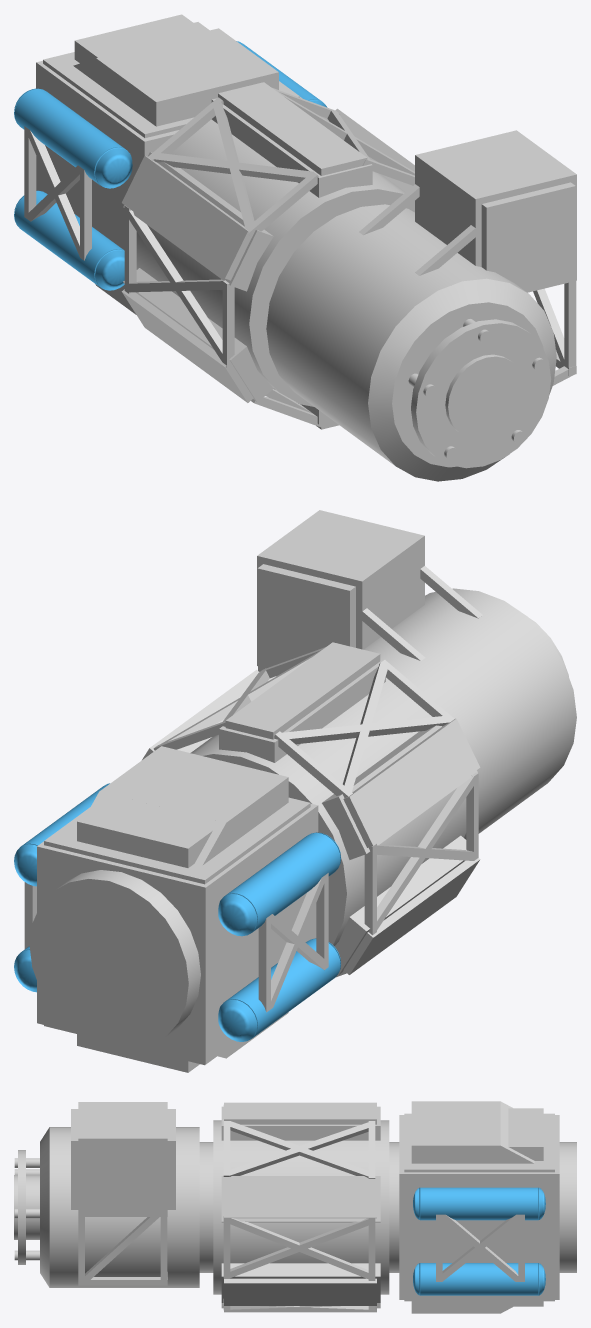
Rendered from MethaloxGenerator.fbx.
3 views of the same model, one above another, from view 1: azimuth 30°, elevation 25°; view 2: azimuth 150°, elevation 25°; view 3: azimuth 270°, elevation 25° (orthographic). The views are drawn at different scales.
Parts seen in each view (by area): view 1: object 2_mesh; view 2: object 2_mesh; view 3: object 2_mesh.
Boxes of the visible parts, box(x1,y1,x2,y2) form: object 2_mesh: box(14, 14, 576, 481); object 2_mesh: box(14, 510, 576, 1072); object 2_mesh: box(14, 1101, 576, 1313).
Size of the model in its own units: 33.07 by 36.02 by 85.99.
